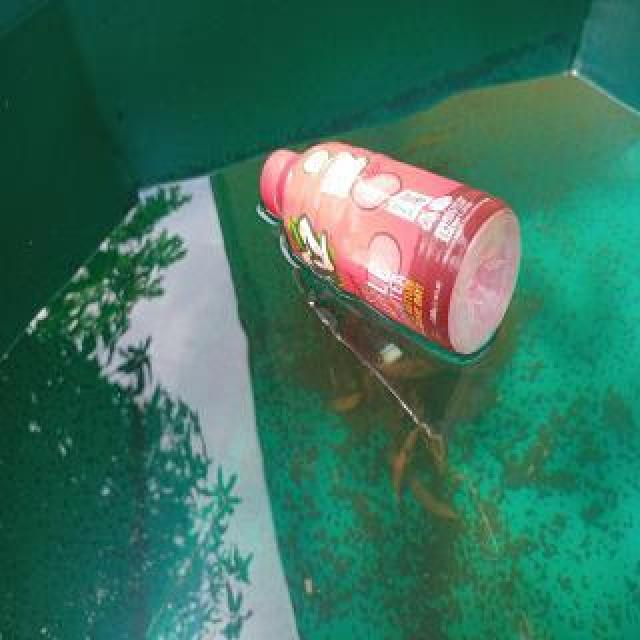bottle: (258, 135, 524, 357)
